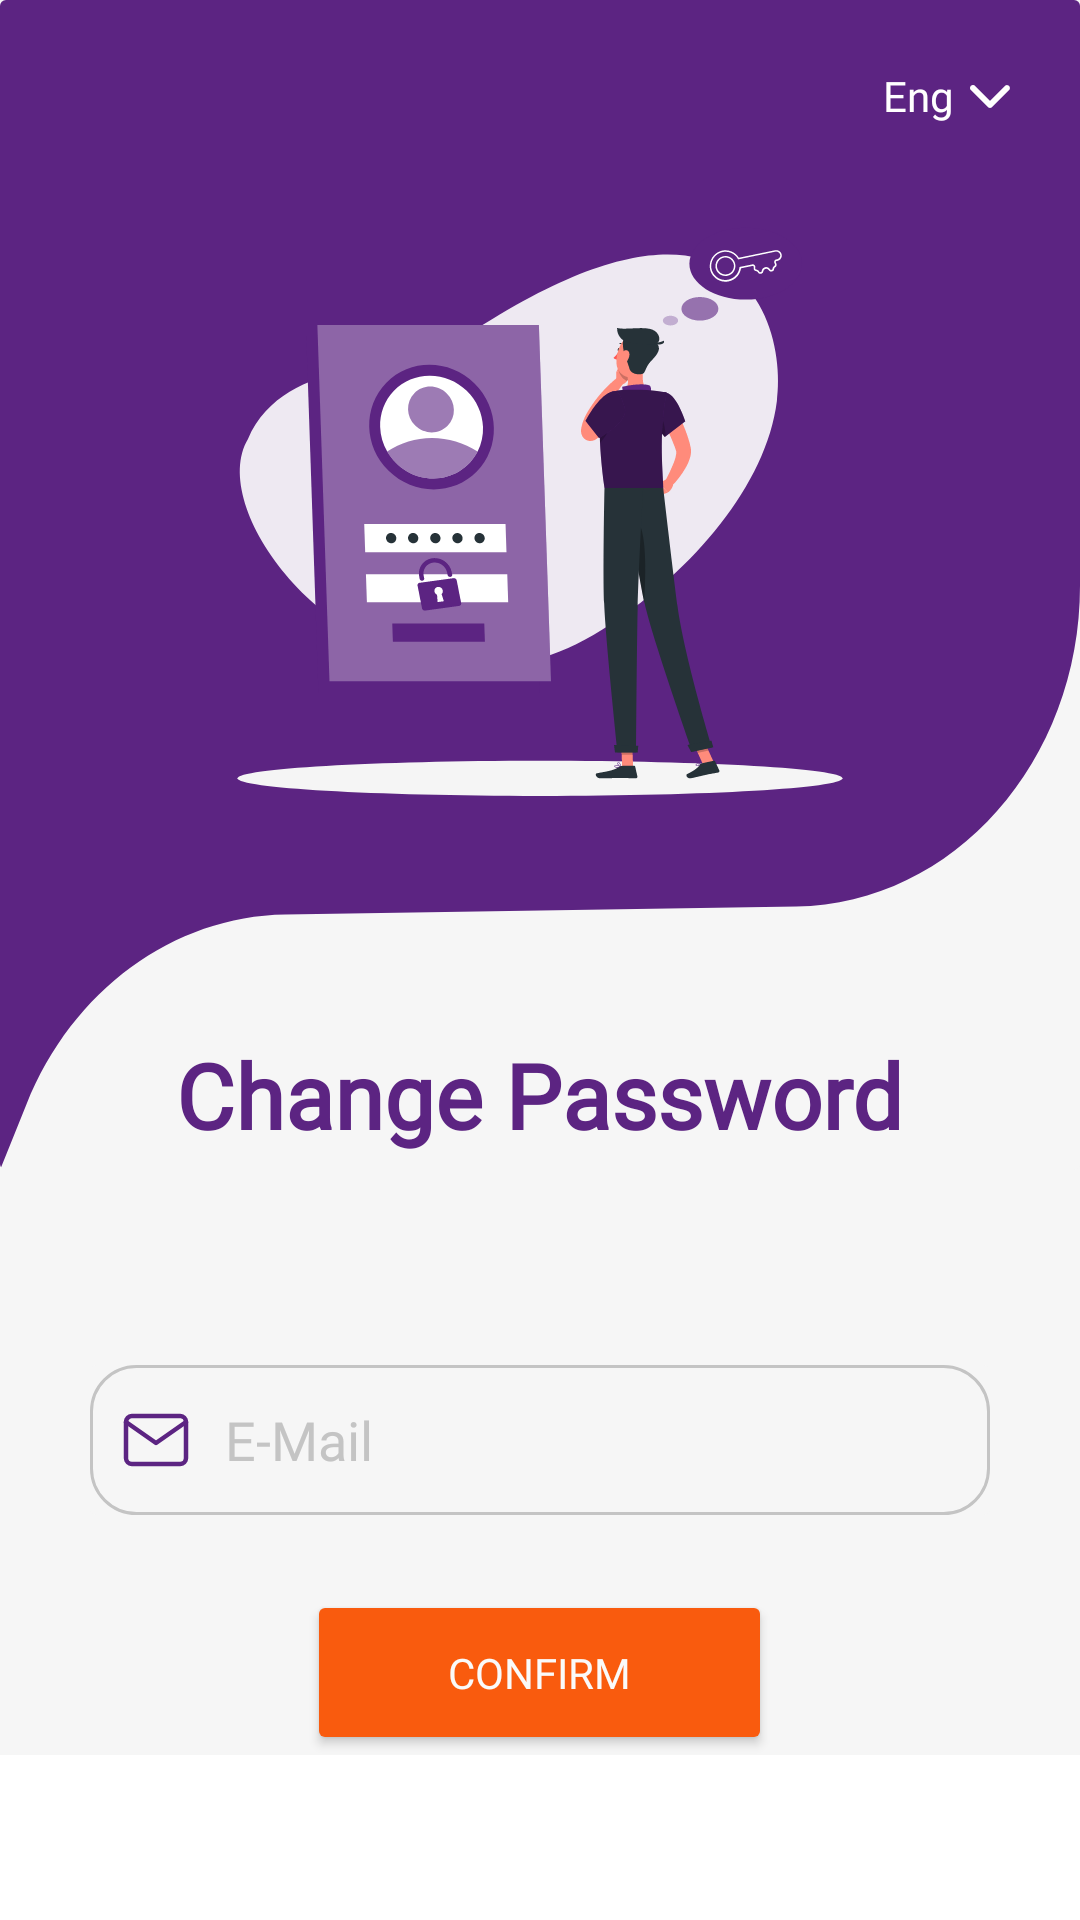

Where icons sit on this 1080w x 1920h app screen, as {"left": x1, "top": y1, "right": x2, "bottom": y2}:
openlanguage: {"left": 970, "top": 85, "right": 1010, "bottom": 108}
